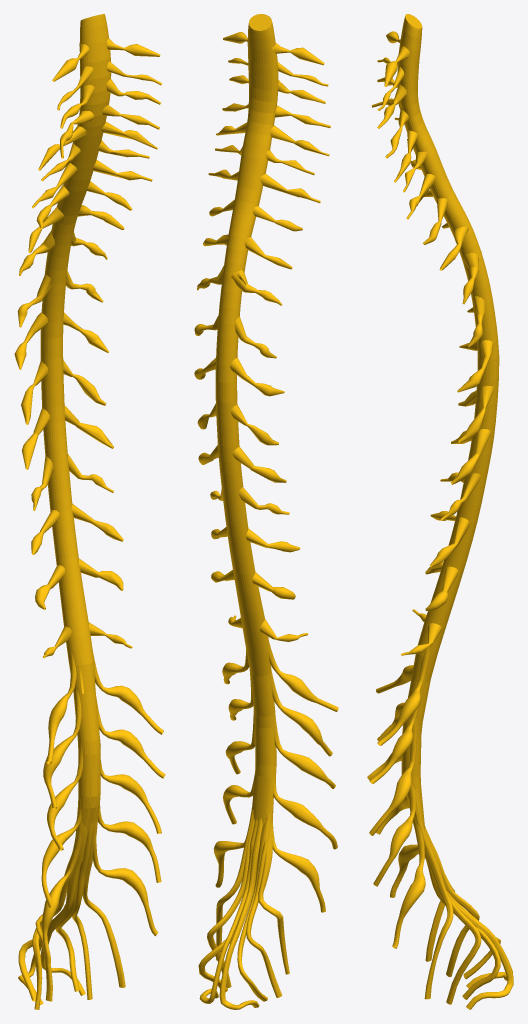
Rendered from cord.glb.
3 renders of one model, left to right at view 1: azimuth 30°, elevation 25°; view 2: azimuth 150°, elevation 25°; view 3: azimuth 270°, elevation 25°, orthographic. The views are drawn at different scales.
Parts seen in each view (by area): view 1: BezierCurve.002; view 2: BezierCurve.002; view 3: BezierCurve.002.
Part boxes in pixels (left/top/right/bottom): BezierCurve.002: left=14, top=14, right=165, bottom=1009; BezierCurve.002: left=194, top=14, right=338, bottom=1009; BezierCurve.002: left=367, top=14, right=513, bottom=1009.
Bounding box in the file's own units: 62.02 × 496 × 66.85.
